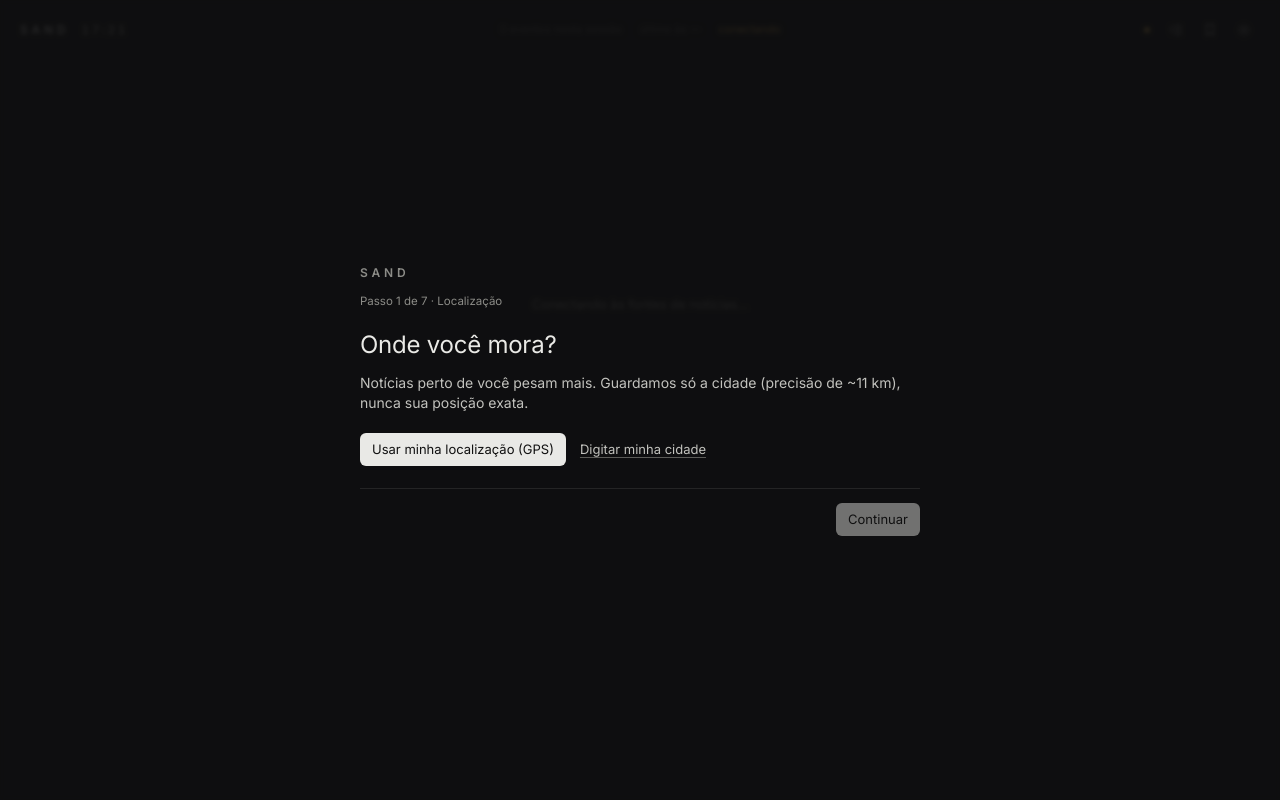
Test: login and first-login questionnaire › denied GPS permission falls back to typing the city
Click the button "Usar minha localização (GPS)": (463, 450) [360,433,566,466]
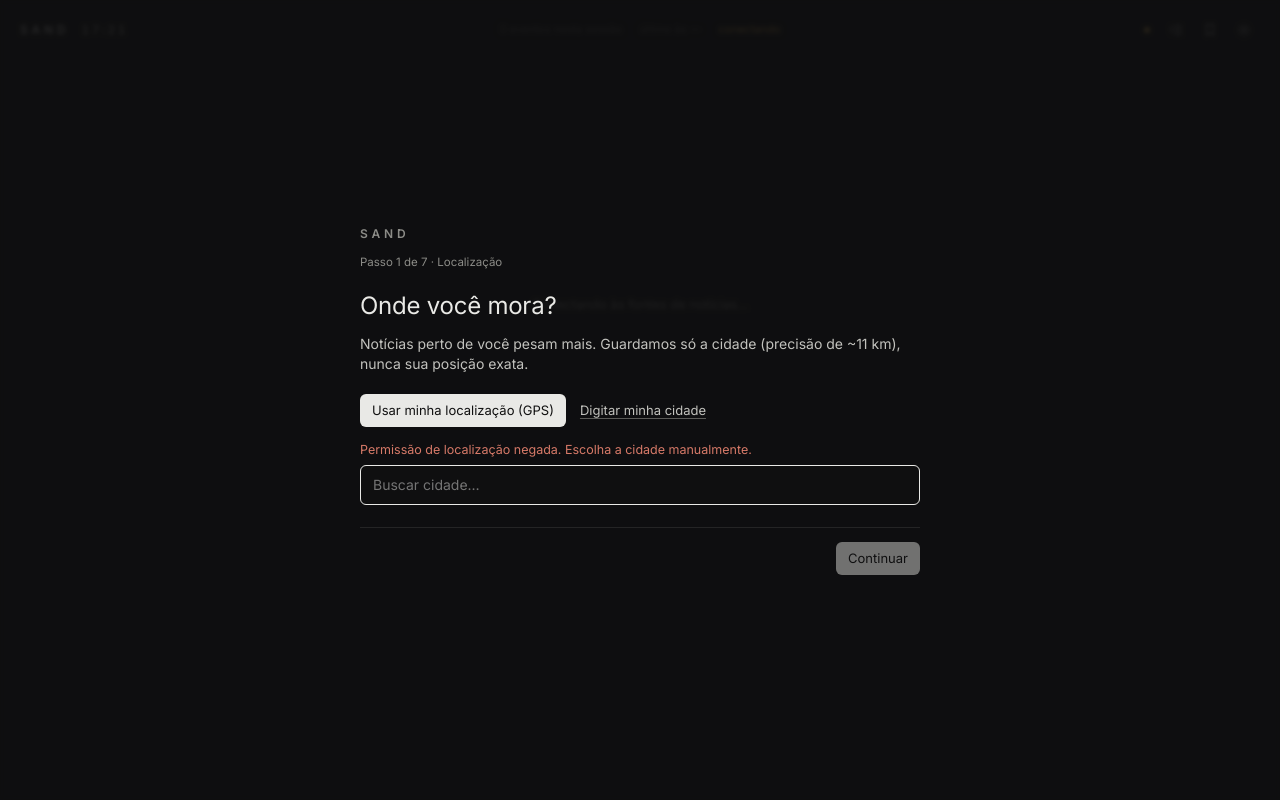
Now the text "Permissão de localização negada" is shown, box [360,442,752,457]
Now the dropdown labelled "Buscar cidade" is shown, box [360,465,920,505]
